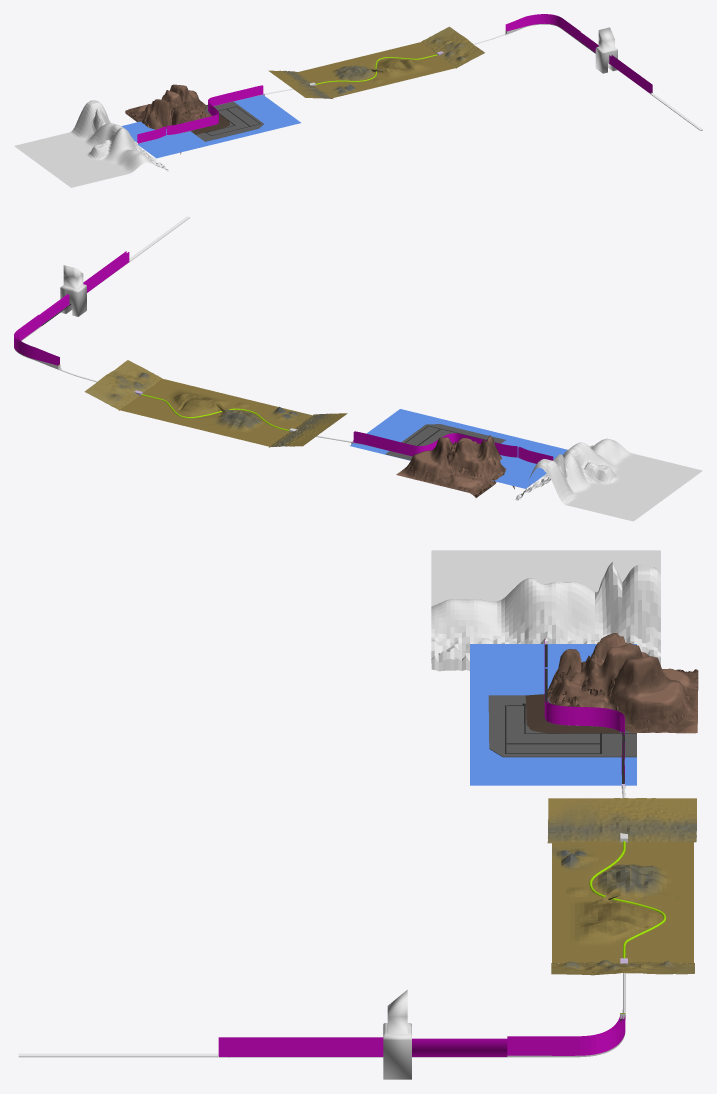
The model's file is final-con modifiers aplicados+isla-finita.glb.
3 renders of one model, top to bottom at view 1: azimuth 30°, elevation 25°; view 2: azimuth 150°, elevation 25°; view 3: azimuth 270°, elevation 25°, orthographic. The views are drawn at different scales.
Visible parts, largest first — view 1: mountain, underwaterfloor, Water, Tunel subaquatica, Montanya isla, Pendiente agua A, Ground, Main Tower, Pendiente agua B, Carretera, carretera.002; view 2: mountain, underwaterfloor, Montanya isla, Water, Tunel subaquatica, Pendiente agua A, Pendiente agua B, Ground, Main Tower, Carretera; view 3: mountain, underwaterfloor, Water, Montanya isla, Tunel subaquatica, Pendiente agua B, Carretera, Ground, Main Tower, Pendiente agua A, roof.
Boxes of the visible parts, left/top/right/bottom form: mountain: left=14, top=100, right=168, bottom=187; underwaterfloor: left=297, top=42, right=456, bottom=98; Water: left=121, top=95, right=300, bottom=158; Tunel subaquatica: left=166, top=14, right=580, bottom=135; Montanya isla: left=125, top=84, right=211, bottom=154; Pendiente agua A: left=421, top=26, right=484, bottom=68; Ground: left=190, top=101, right=263, bottom=141; Main Tower: left=595, top=27, right=617, bottom=73; Pendiente agua B: left=268, top=70, right=333, bottom=98; Carretera: left=579, top=32, right=652, bottom=93; carretera.002: left=137, top=126, right=165, bottom=143; mountain: left=515, top=438, right=702, bottom=521; underwaterfloor: left=119, top=378, right=312, bottom=446; Montanya isla: left=396, top=435, right=514, bottom=497; Water: left=350, top=409, right=567, bottom=488; Tunel subaquatica: left=14, top=314, right=517, bottom=457; Pendiente agua A: left=84, top=360, right=161, bottom=410; Pendiente agua B: left=269, top=413, right=347, bottom=447; Ground: left=385, top=424, right=505, bottom=460; Main Tower: left=60, top=265, right=86, bottom=316; Carretera: left=39, top=251, right=129, bottom=325; mountain: left=431, top=550, right=660, bottom=671; underwaterfloor: left=552, top=841, right=693, bottom=962; Water: left=470, top=644, right=636, bottom=785; Montanya isla: left=547, top=633, right=698, bottom=733; Tunel subaquatica: left=507, top=657, right=666, bottom=1057; Pendiente agua B: left=547, top=798, right=696, bottom=843; Carretera: left=218, top=1037, right=507, bottom=1057; Ground: left=488, top=695, right=636, bottom=757; Main Tower: left=383, top=989, right=411, bottom=1079; Pendiente agua A: left=551, top=960, right=694, bottom=975; roof: left=18, top=1053, right=218, bottom=1056.
Bounding box in the file's own units: 6421 × 604 × 3534.
Materials: 19 (4 with a texture image).
